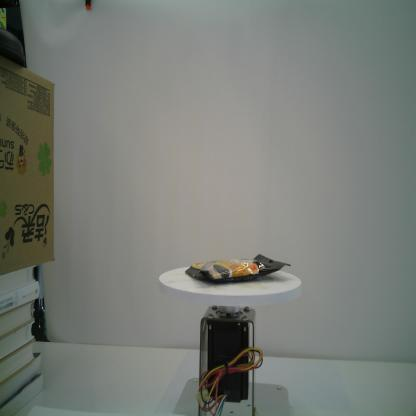Instant Drink: (185, 253, 291, 283)
